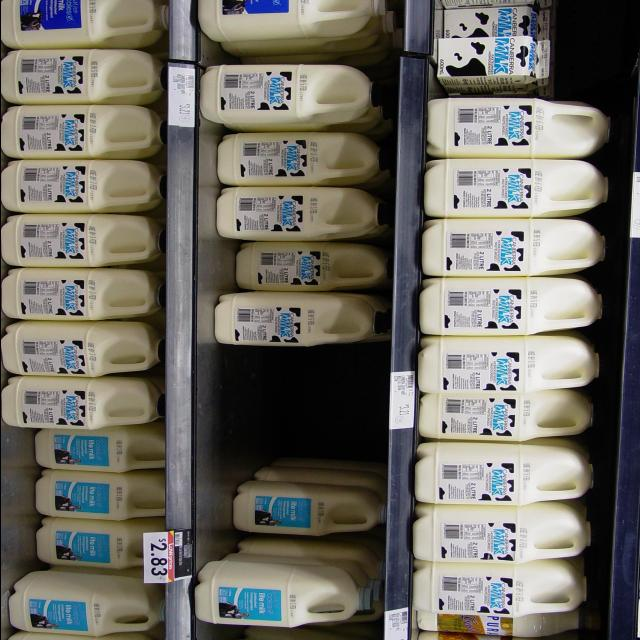empty_space: (205, 350, 386, 458), (548, 7, 614, 97)
